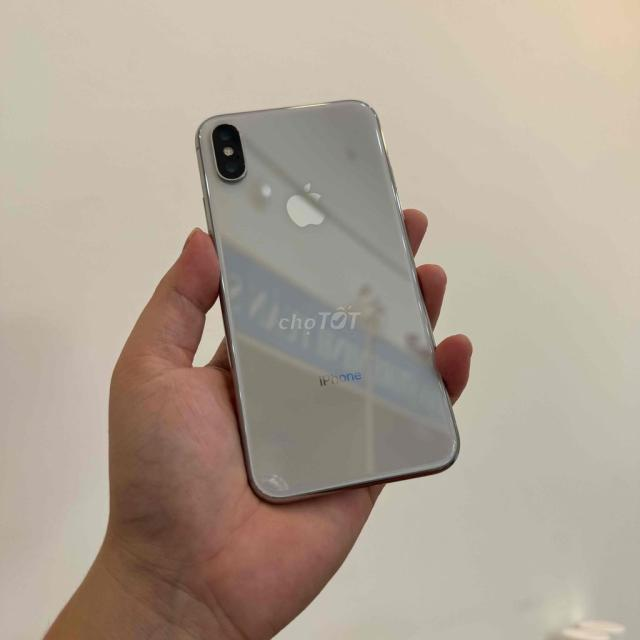gen_x_xs: (192, 98, 463, 509)
physical_damage: (258, 467, 298, 500)
